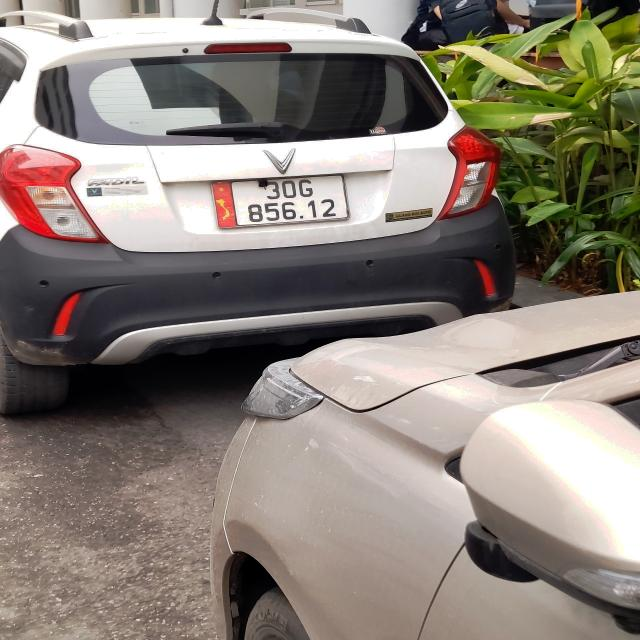license_plate: (214, 176, 349, 229)
